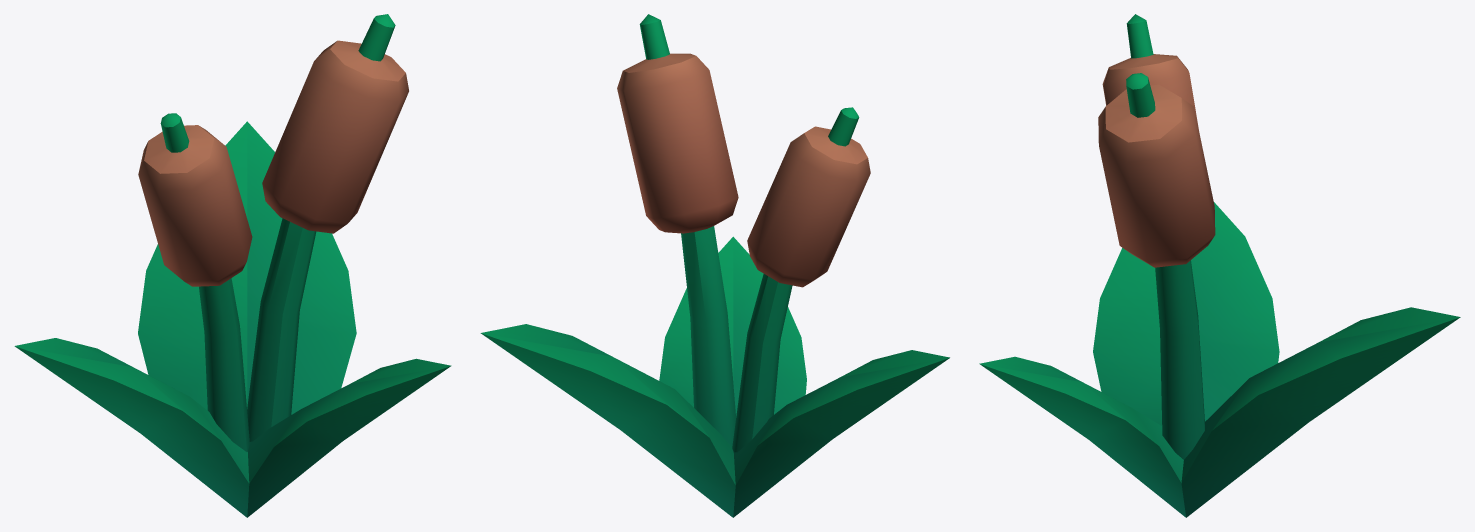
File: waterplant_C.glb
3 renders of one model, left to right at view 1: azimuth 30°, elevation 25°; view 2: azimuth 150°, elevation 25°; view 3: azimuth 270°, elevation 25°, orthographic. The views are drawn at different scales.
Visible parts, largest first — view 1: waterplant_C; view 2: waterplant_C; view 3: waterplant_C.
Boxes of the visible parts, x1=… form: waterplant_C: x1=14, y1=14, x2=451, y2=517; waterplant_C: x1=480, y1=14, x2=949, y2=517; waterplant_C: x1=979, y1=14, x2=1460, y2=517.
Size of the model in its own units: 0.1983 by 0.2472 by 0.2157.
Materials: 1 (1 with a texture image).
